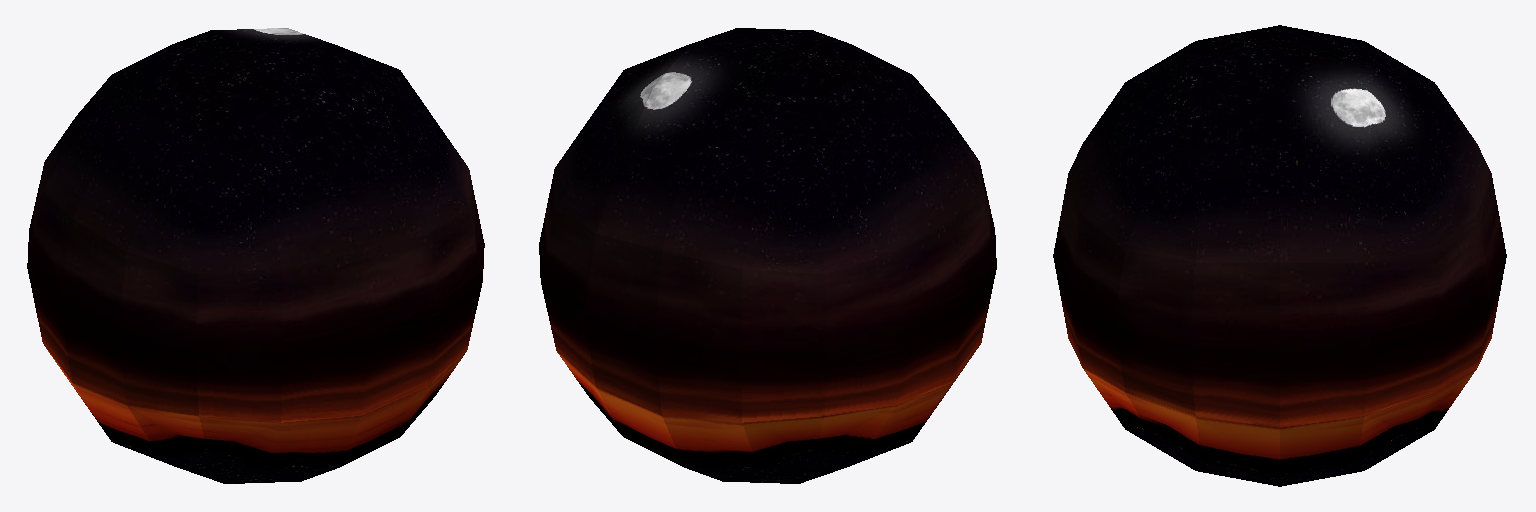
The picture shows the model from 3 angles: view 1: azimuth 30°, elevation 25°; view 2: azimuth 150°, elevation 25°; view 3: azimuth 270°, elevation 25°; orthographic projection.
Visible parts, largest first — view 1: skybox01; view 2: skybox01; view 3: skybox01.
Boxes of the visible parts, x1=… form: skybox01: x1=27, y1=28, x2=484, y2=483; skybox01: x1=539, y1=28, x2=996, y2=483; skybox01: x1=1053, y1=25, x2=1506, y2=486.
Size of the model in its own units: 765 by 766 by 763.
6 materials, 6 textured.